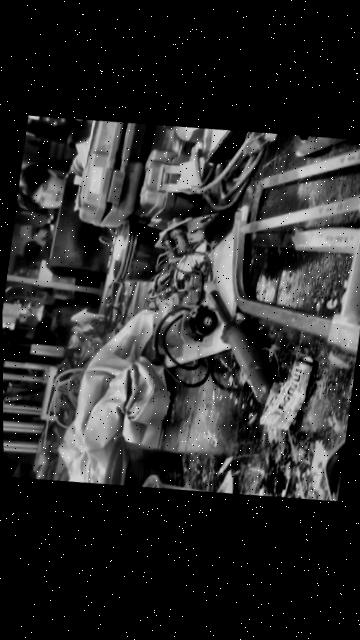pot: (101, 438, 181, 487), (141, 475, 204, 491)
